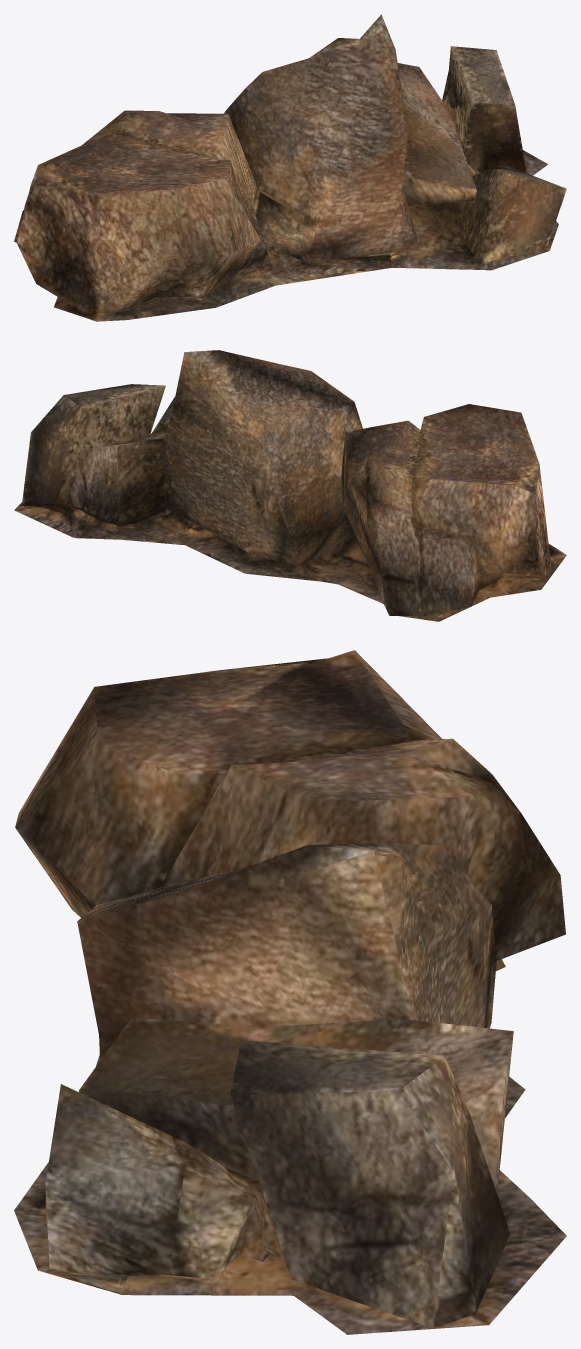
File: namaqualand_boulder_02.glb
3 views of the same model, one above another, from view 1: azimuth 30°, elevation 25°; view 2: azimuth 150°, elevation 25°; view 3: azimuth 270°, elevation 25° (orthographic). The views are drawn at different scales.
Parts seen in each view (by area): view 1: boulder_02; view 2: boulder_02; view 3: boulder_02.
Boxes of the visible parts, x1,y1,x2,y2 form: boulder_02: [14, 14, 566, 321]; boulder_02: [14, 350, 566, 621]; boulder_02: [14, 650, 566, 1334].
Bounding box in the file's own units: 2.47 × 0.8562 × 1.21.
Materials: 1 (1 with a texture image).
